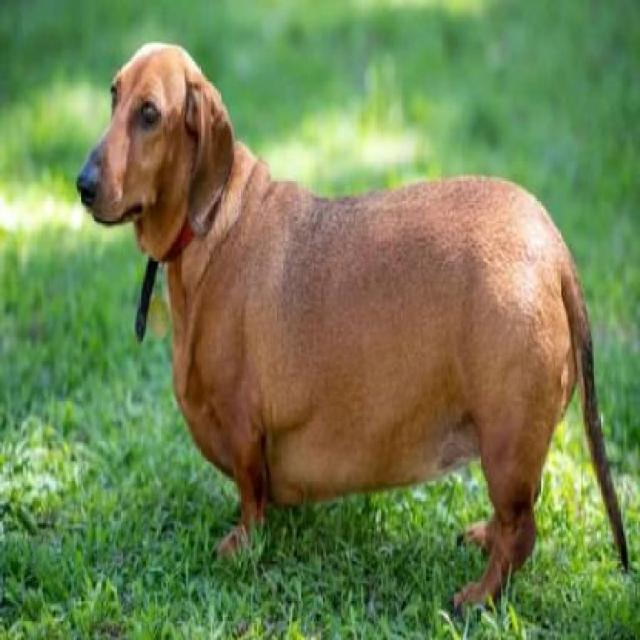Dog: (75, 31, 632, 617)
